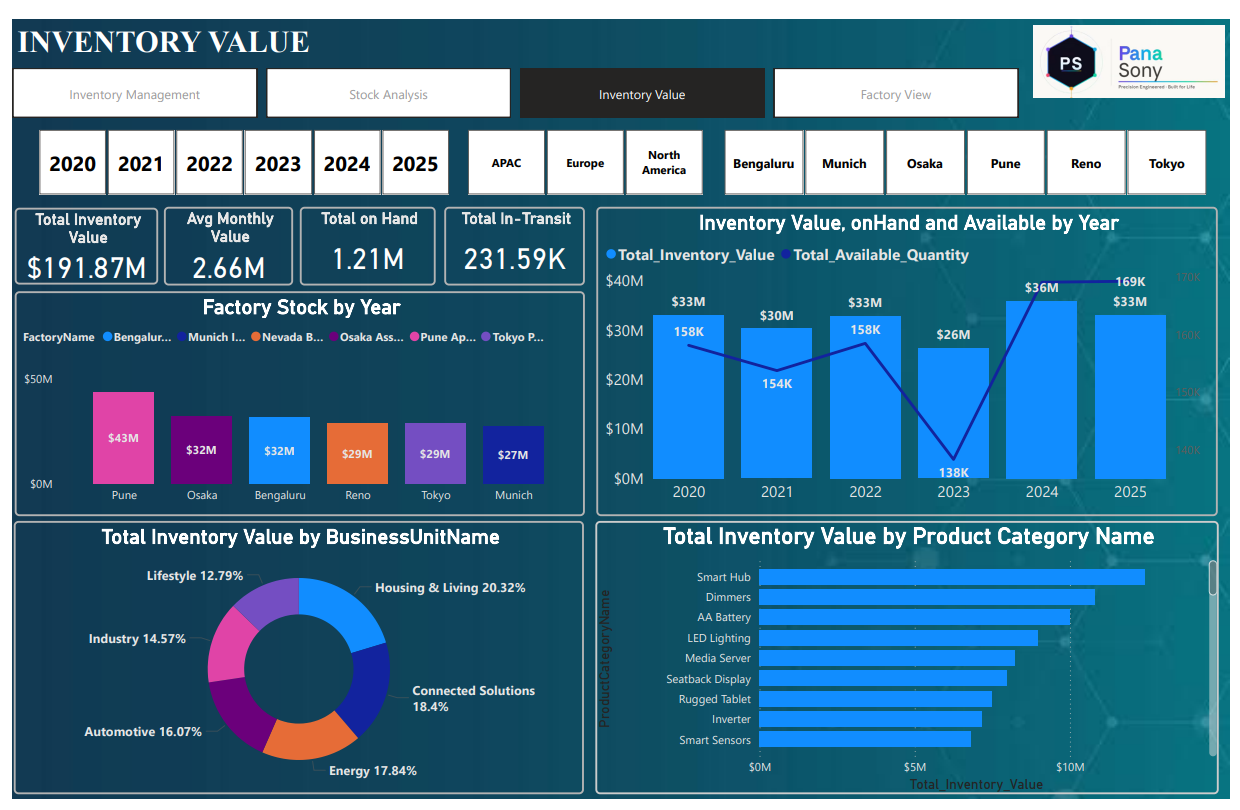

Layout of this report page (visuals, bound fields, positions):
{"tool":"powerbi","page":{"name":"Inventory  Value","canvas":[1280,820],"ordinal":2},"visuals":[{"type":"textbox","box":[0,0,696.7,51.4],"z":0},{"type":"image","box":[1068.6,0,211.7,88.2],"z":1000},{"type":"pageNavigator","box":[0,50.7,1058.2,52.2],"z":2000},{"type":"slicer","fields":{"Values":["InventoryAnalytics.YearNumber"]},"box":[1.5,109.1,481.8,81.8],"z":3000},{"type":"slicer","fields":{"Values":["InventoryAnalytics.Region"]},"box":[453,109.1,297,81.8],"z":4000},{"type":"slicer","fields":{"Values":["InventoryAnalytics.City"]},"box":[722.7,109.1,557.6,81.8],"z":5000},{"type":"card","title":"Total Inventory Value","fields":{"Values":["InventoryAnalytics.Total_Inventory_Value"]},"box":[1.8,198.2,150.9,80.9],"z":6000},{"type":"card","title":"Avg Monthly Value","fields":{"Values":["InventoryAnalytics.Avg_Monthly_Value"]},"box":[159.1,197.3,136.4,82.7],"z":7000},{"type":"card","title":"Total on Hand","fields":{"Values":["InventoryAnalytics.Total_on_Hand"]},"box":[301.8,197.3,143.6,82.7],"z":8000},{"type":"card","title":"Total In-Transit","fields":{"Values":["InventoryAnalytics.Total_Intransi_Qty"]},"box":[453.6,197.3,148.2,82.7],"z":9000},{"type":"columnChart","title":"Factory Stock by Year","fields":{"Category":["InventoryAnalytics.City"],"Y":["InventoryAnalytics.Total_Inventory_Value"],"Series":["InventoryAnalytics.FactoryName"]},"box":[1.5,286.4,600,236.4],"z":10000},{"type":"lineClusteredColumnComboChart","title":"Inventory Value, onHand and Available by Year","fields":{"Category":["InventoryAnalytics.YearNumber"],"Y":["InventoryAnalytics.Total_Inventory_Value"],"Y2":["InventoryAnalytics.Total_Available_Quantity"]},"box":[613.6,197,654.5,325.8],"z":11000},{"type":"donutChart","title":"Total Inventory Value by  BusinessUnitName","fields":{"Y":["InventoryAnalytics.Total_Inventory_Value"],"Category":["InventoryAnalytics.BusinessUnitName"]},"box":[1.5,528.4,600,288.1],"z":12000},{"type":"barChart","title":"Total Inventory Value by Product Category Name","fields":{"Y":["InventoryAnalytics.Total_Inventory_Value"],"Category":["InventoryAnalytics.ProductCategoryName"]},"box":[613.4,528.4,655.2,288.1],"z":13000}]}

Visuals, with their boxes in screenshot pixels (x1, y1, x2, y2), scaled from the page's 1280x820 canvas onto the 1240x810 screenshot:
textbox: (left=0, top=0, right=675, bottom=51)
image: (left=1035, top=0, right=1239, bottom=87)
pageNavigator: (left=0, top=50, right=1025, bottom=102)
slicer - InventoryAnalytics.YearNumber: (left=1, top=108, right=468, bottom=189)
slicer - InventoryAnalytics.Region: (left=439, top=108, right=727, bottom=189)
slicer - InventoryAnalytics.City: (left=700, top=108, right=1239, bottom=189)
"Total Inventory Value" card: (left=2, top=196, right=148, bottom=276)
"Avg Monthly Value" card: (left=154, top=195, right=286, bottom=277)
"Total on Hand" card: (left=292, top=195, right=431, bottom=277)
"Total In-Transit" card: (left=439, top=195, right=583, bottom=277)
"Factory Stock by Year" columnChart: (left=1, top=283, right=583, bottom=516)
"Inventory Value, onHand and Available by Year" lineClusteredColumnComboChart: (left=594, top=195, right=1228, bottom=516)
"Total Inventory Value by  BusinessUnitName" donutChart: (left=1, top=522, right=583, bottom=807)
"Total Inventory Value by Product Category Name" barChart: (left=594, top=522, right=1229, bottom=807)
